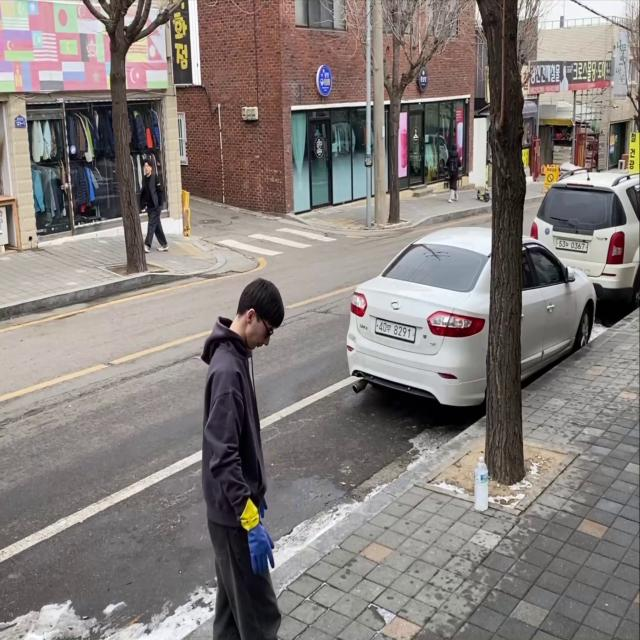gloved_hand: (245, 521, 279, 577)
